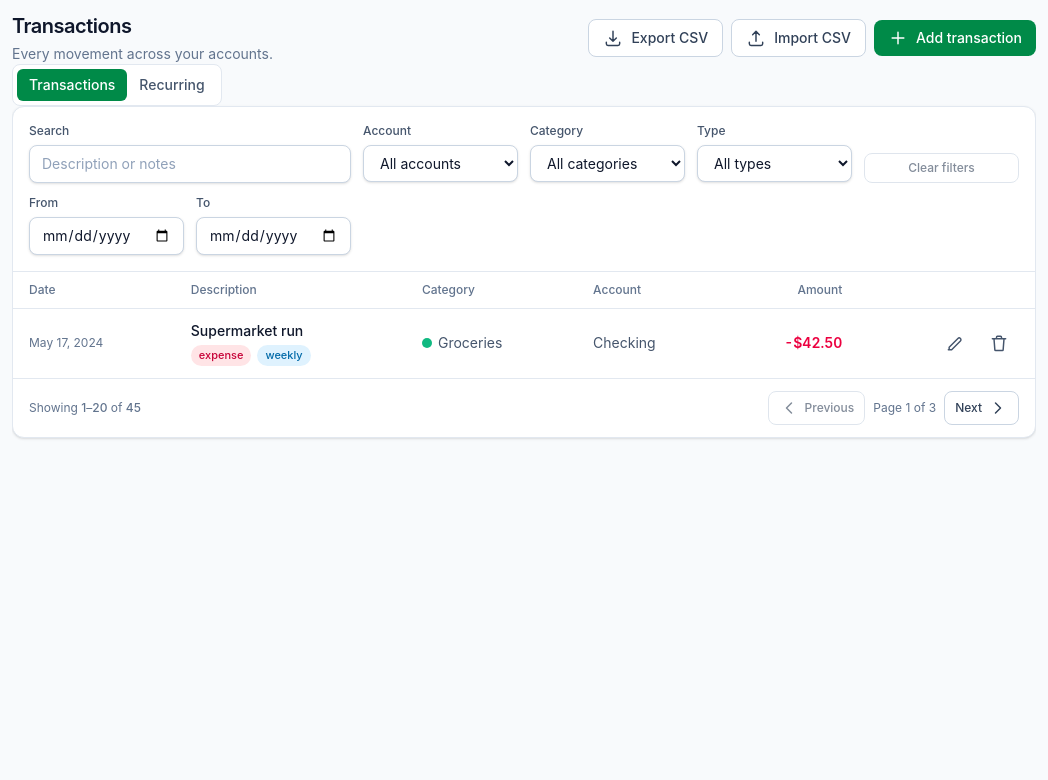
Test: TransactionsPage › pauses a recurring rule
The width and height of the screenshot is (1048, 780).
Expected: the text "Supermarket run" is shown, [191,322,303,339]
Click the tab "Recurring": (172, 85) [127,69,217,101]
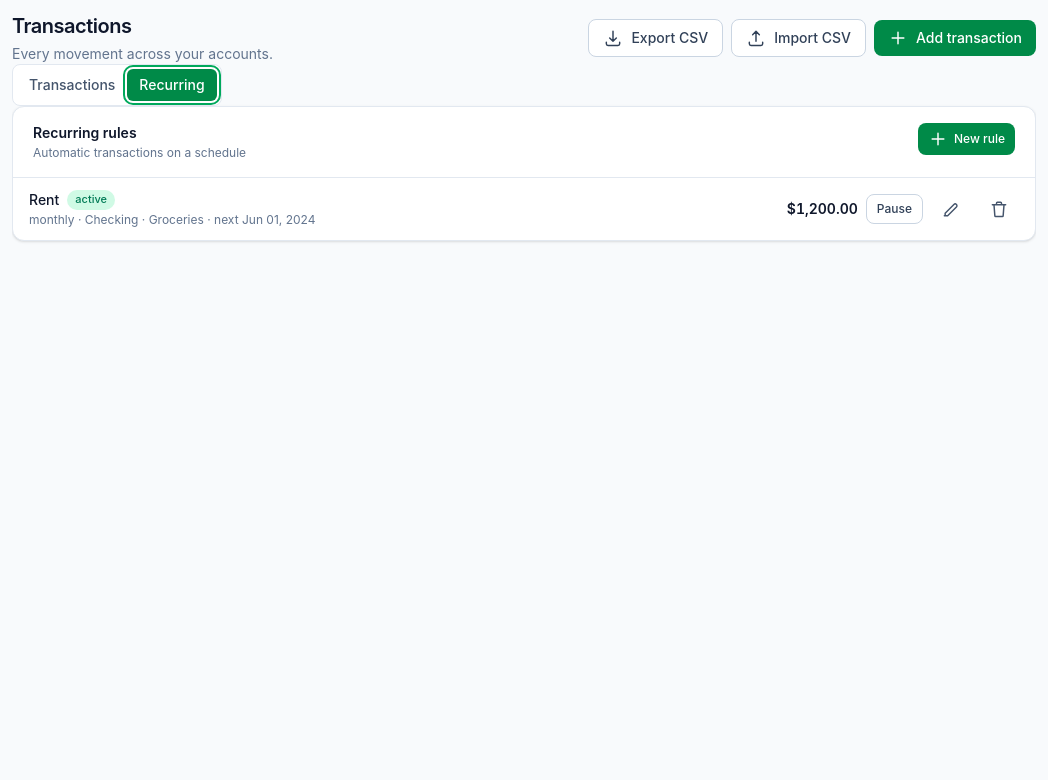
Expected: the text "Rent" is shown, [29,191,59,208]
Click the button "Pause": (894, 209) [866,194,923,224]
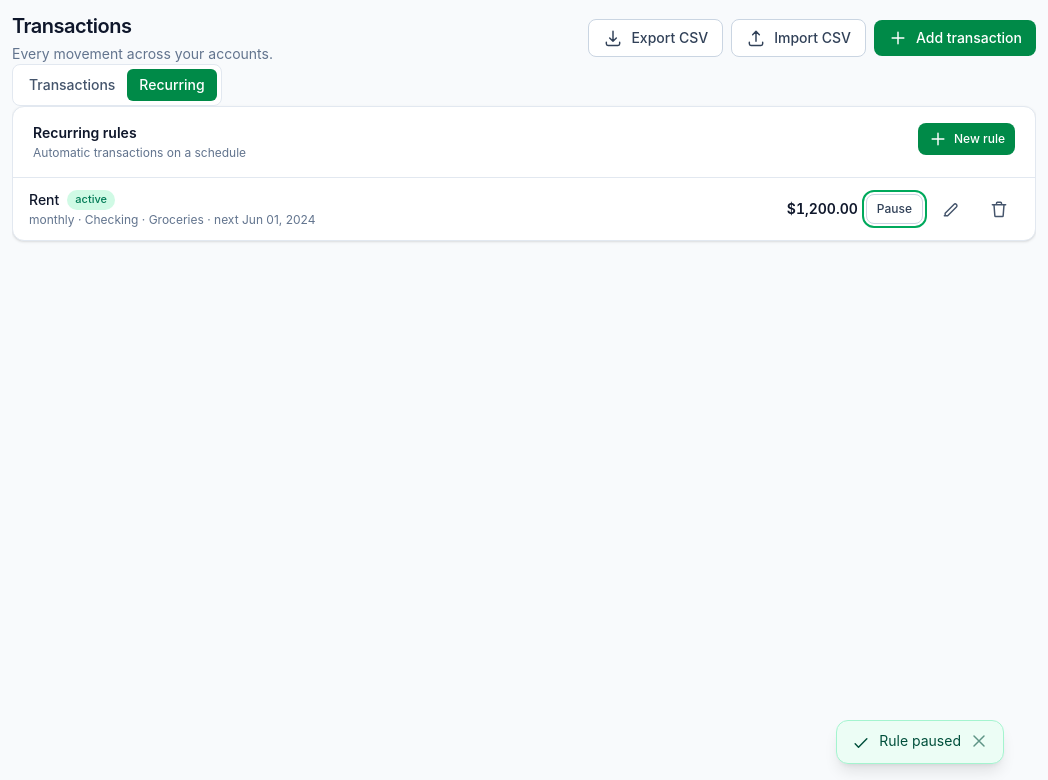
Expected: the text "Rule paused" is shown, [879,731,961,751]
